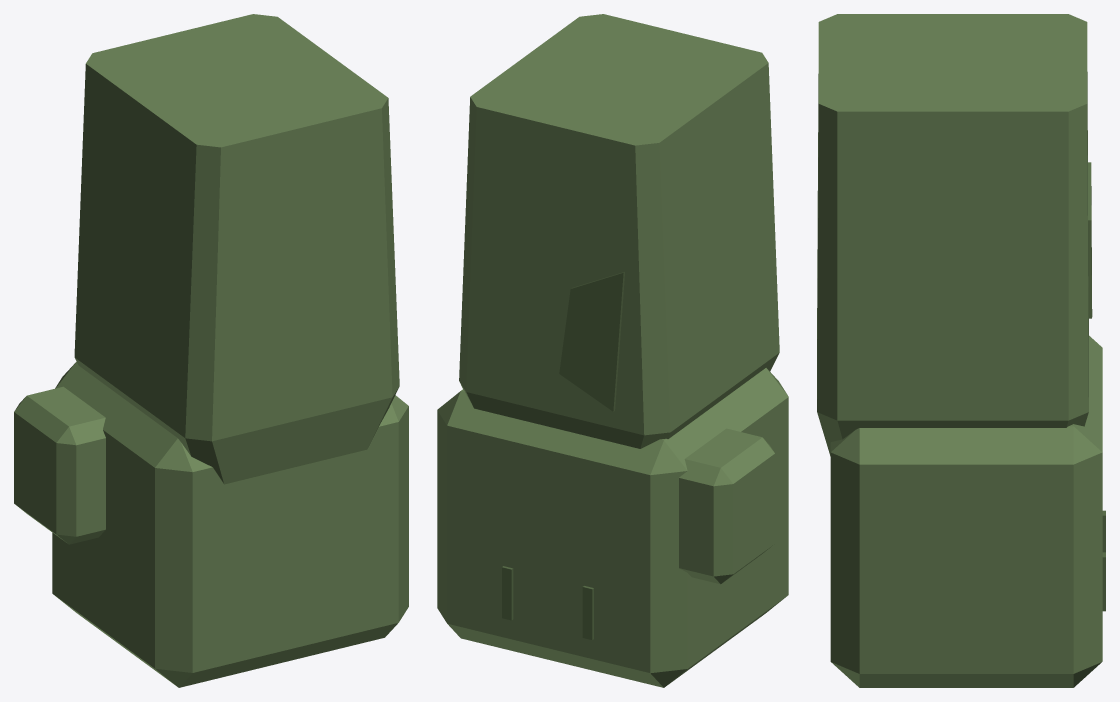
File: ForearmRight.glb
3 renders of one model, left to right at view 1: azimuth 30°, elevation 25°; view 2: azimuth 150°, elevation 25°; view 3: azimuth 270°, elevation 25°, orthographic. The views are drawn at different scales.
Visible parts, largest first — view 1: Sculpture; view 2: Sculpture; view 3: Sculpture.
Boxes of the visible parts, box(x1,y1,x2,y2) form: Sculpture: box(14, 14, 408, 687); Sculpture: box(437, 14, 788, 687); Sculpture: box(817, 14, 1105, 687).
Size of the model in its own units: 0.21 by 0.372 by 0.17.
